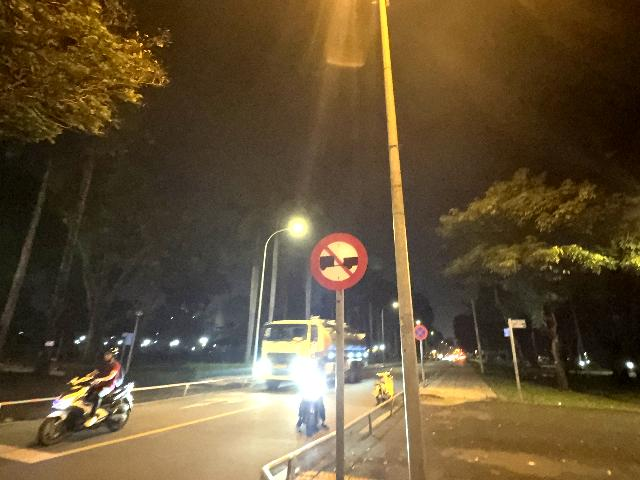cam-xe-somi-romooc: (310, 233, 368, 290)
